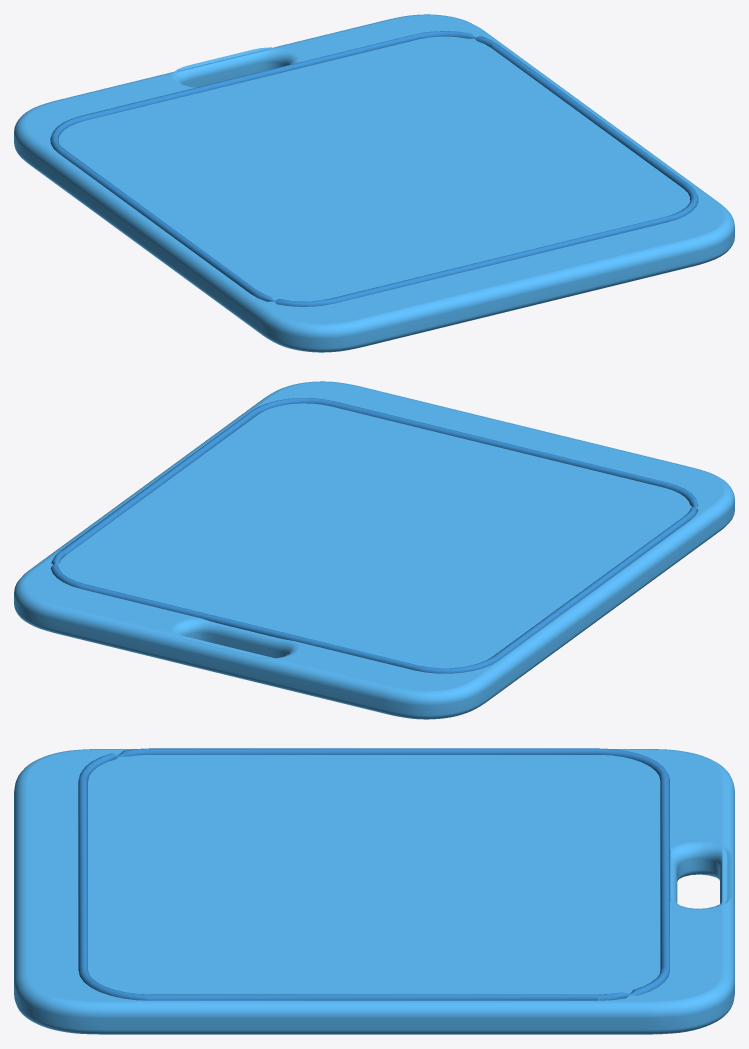
File: CuttingBoard.obj
3 renders of one model, top to bottom at view 1: azimuth 30°, elevation 25°; view 2: azimuth 150°, elevation 25°; view 3: azimuth 270°, elevation 25°, orthographic. The views are drawn at different scales.
Parts seen in each view (by area): view 1: Board, Groove; view 2: Board, Groove; view 3: Board, Groove.
Part boxes in pixels (box(x1,y1,x2,y2)): Board: box(14, 14, 734, 352); Groove: box(50, 31, 698, 306); Board: box(14, 381, 734, 719); Groove: box(50, 398, 698, 673); Board: box(14, 749, 734, 1034); Groove: box(78, 748, 670, 1000).
Bounding box in the file's own units: 14.82 × 0.91 × 17.22.
